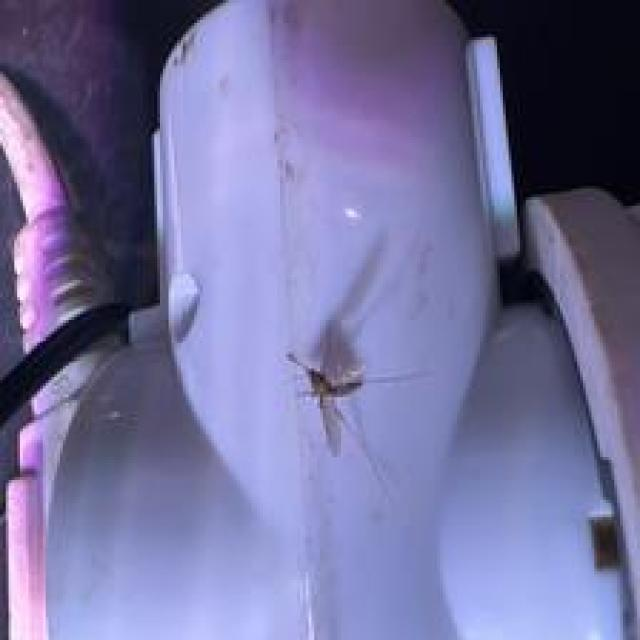Culex: (283, 320, 434, 503)
